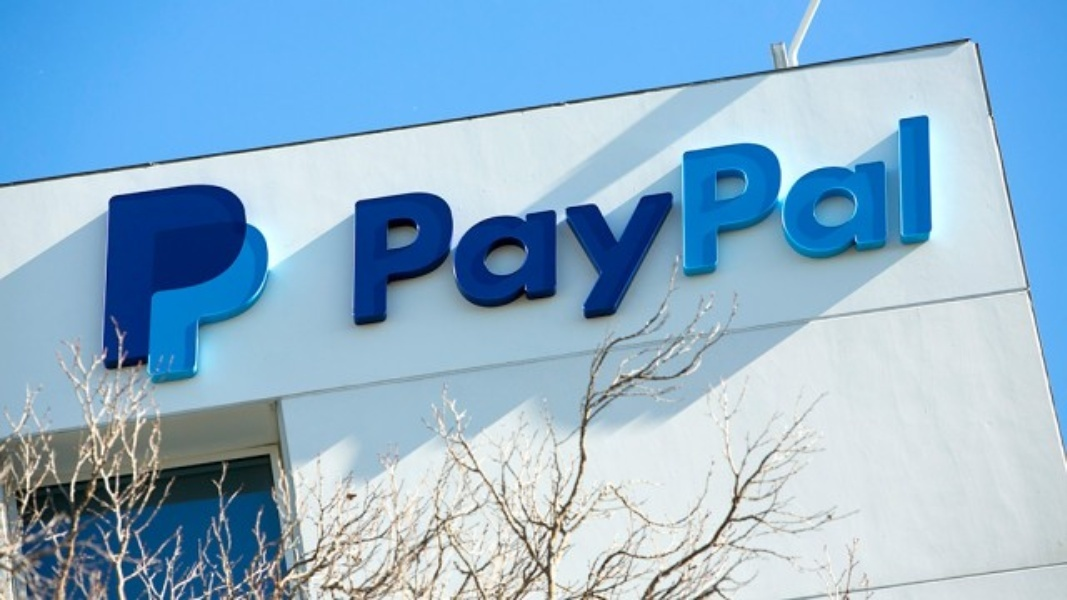text: (369, 112, 384, 342), (385, 112, 400, 342), (401, 112, 416, 342), (417, 112, 432, 342), (433, 112, 448, 342), (449, 112, 464, 342), (465, 112, 480, 342), (481, 112, 496, 342), (497, 112, 512, 342), (513, 112, 528, 342), (529, 112, 544, 342), (545, 112, 560, 342), (561, 112, 576, 342), (577, 112, 592, 342), (593, 112, 608, 342), (609, 112, 624, 342), (625, 112, 640, 342), (641, 112, 656, 342), (657, 112, 672, 342), (673, 112, 688, 342), (689, 112, 704, 342), (705, 112, 720, 342), (721, 112, 736, 342), (737, 112, 752, 342), (753, 112, 768, 342), (769, 112, 784, 342), (785, 112, 800, 342), (801, 112, 816, 342), (817, 112, 832, 342), (833, 112, 848, 342), (849, 112, 864, 342), (865, 112, 880, 342), (881, 112, 896, 342), (897, 112, 912, 342), (913, 112, 928, 342), (354, 112, 368, 342), (113, 174, 128, 376), (129, 174, 144, 376), (145, 174, 160, 376), (161, 174, 176, 376), (177, 174, 192, 376), (193, 174, 208, 376), (209, 174, 224, 376), (225, 174, 240, 376), (161, 212, 176, 384), (177, 212, 192, 384), (193, 212, 208, 384), (209, 212, 224, 384), (225, 212, 240, 384), (241, 212, 256, 384), (257, 212, 272, 384), (147, 212, 160, 384), (106, 174, 112, 376), (241, 174, 247, 376), (929, 112, 932, 342), (273, 212, 276, 384)
